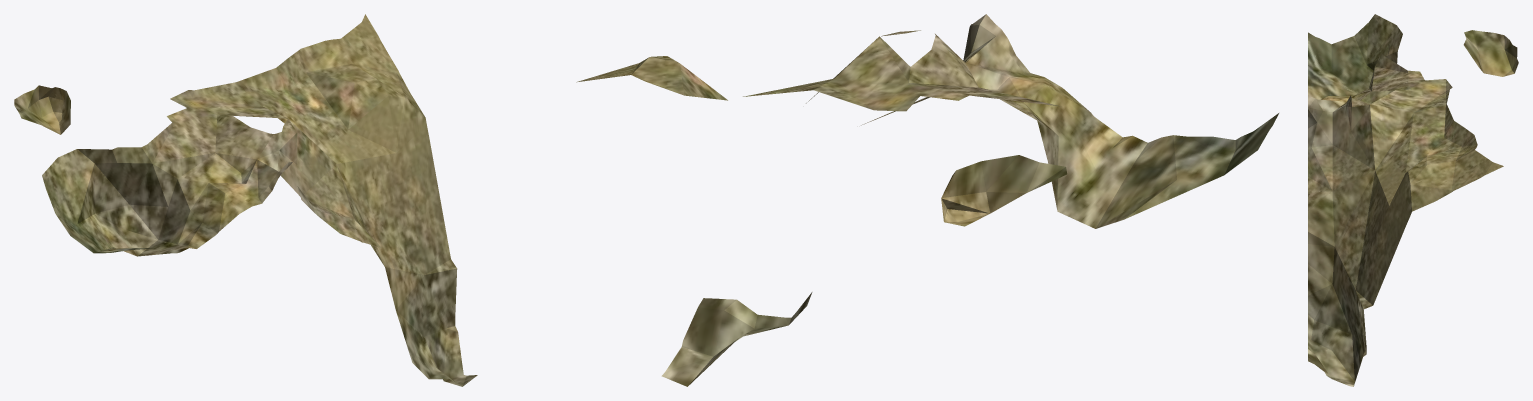
The picture shows the model from 3 angles, left to right: view 1: azimuth 30°, elevation 25°; view 2: azimuth 150°, elevation 25°; view 3: azimuth 270°, elevation 25°; orthographic projection. The views are drawn at different scales.
Size of the model in its own units: 2.95 by 2.01 by 1.73.
2 materials, 2 textured.
